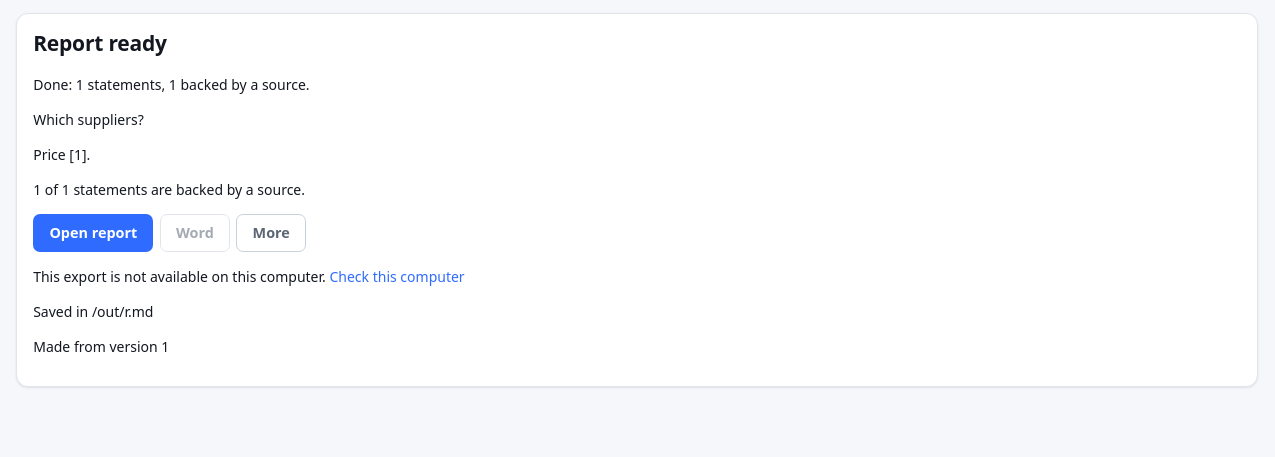
Test: research host › follows the new run a follow-up starts
Click the button "More": (271, 233) [236,214,306,252]
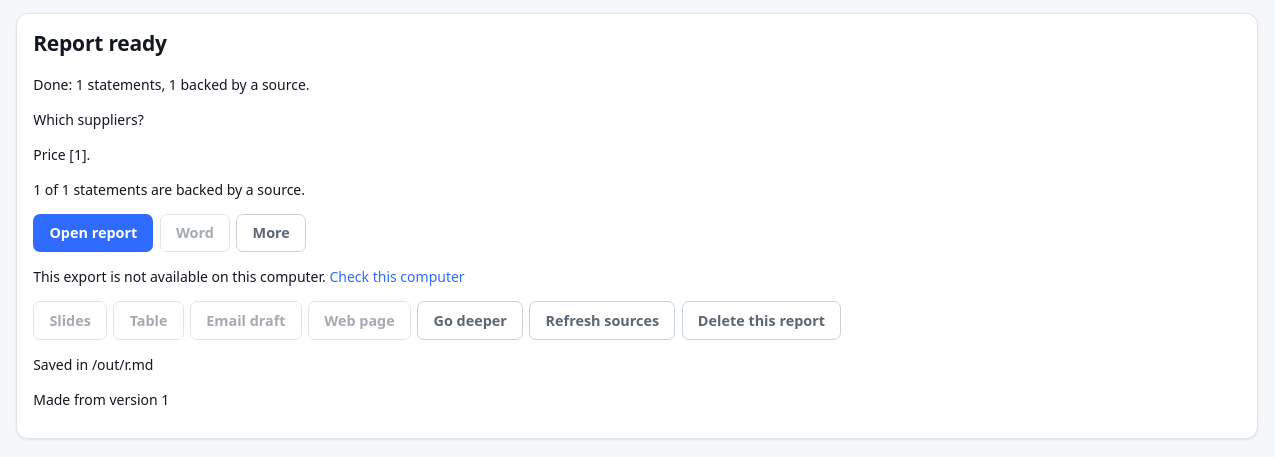
Click the button "Go deeper": (470, 321) [417,301,523,340]
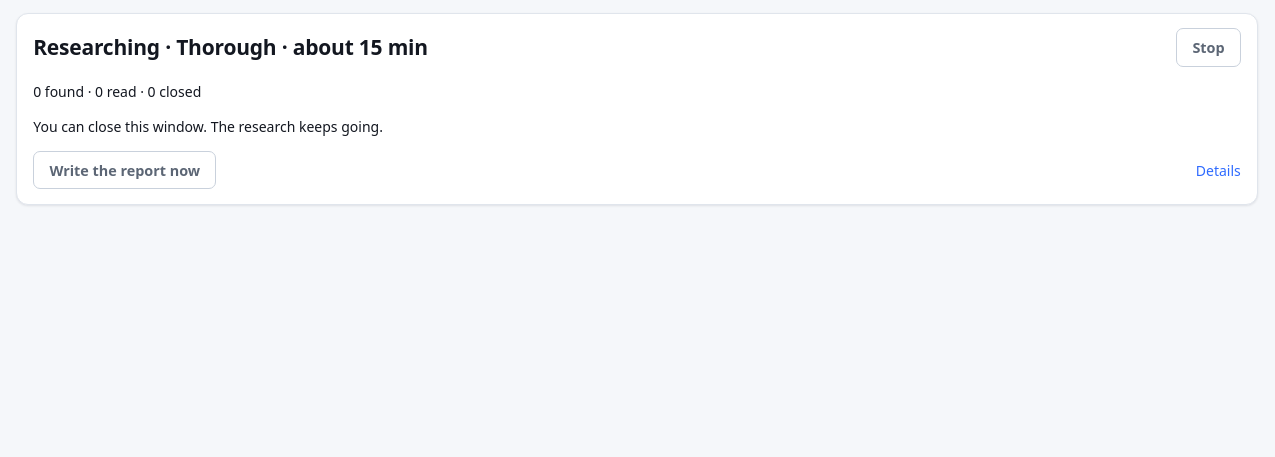
Expected: the element with test id "research-progress" is shown, [16,13,1258,205]
